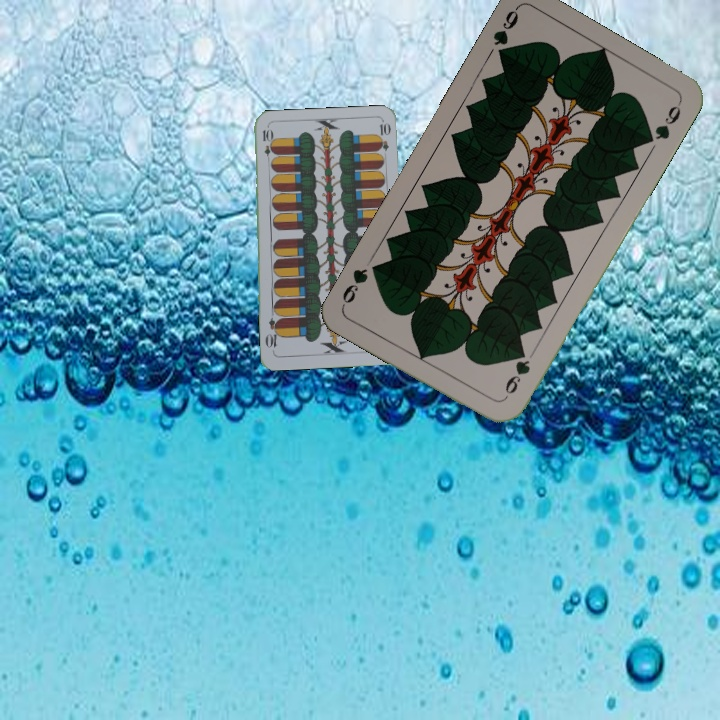E10: (258, 125, 274, 166)
G9: (489, 4, 521, 63), (500, 346, 533, 402)
